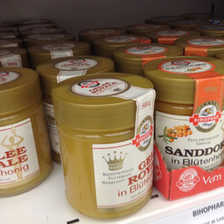honey: (51, 74, 157, 217), (146, 58, 224, 187), (1, 66, 51, 201)
